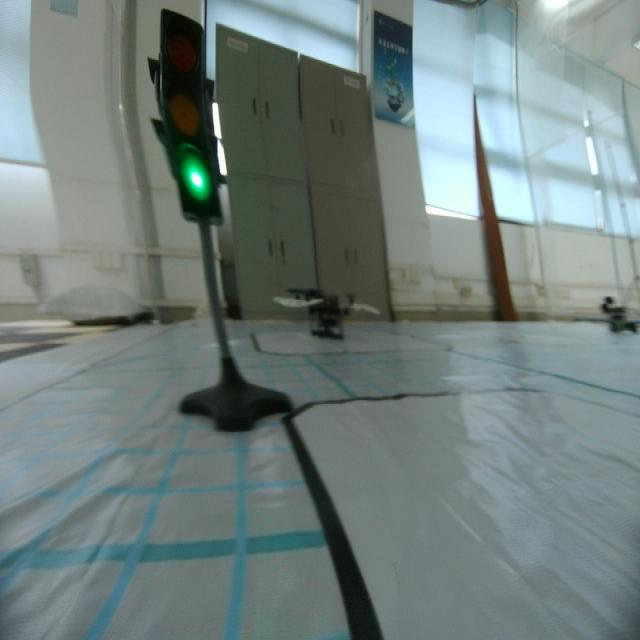green: (144, 7, 229, 226)
